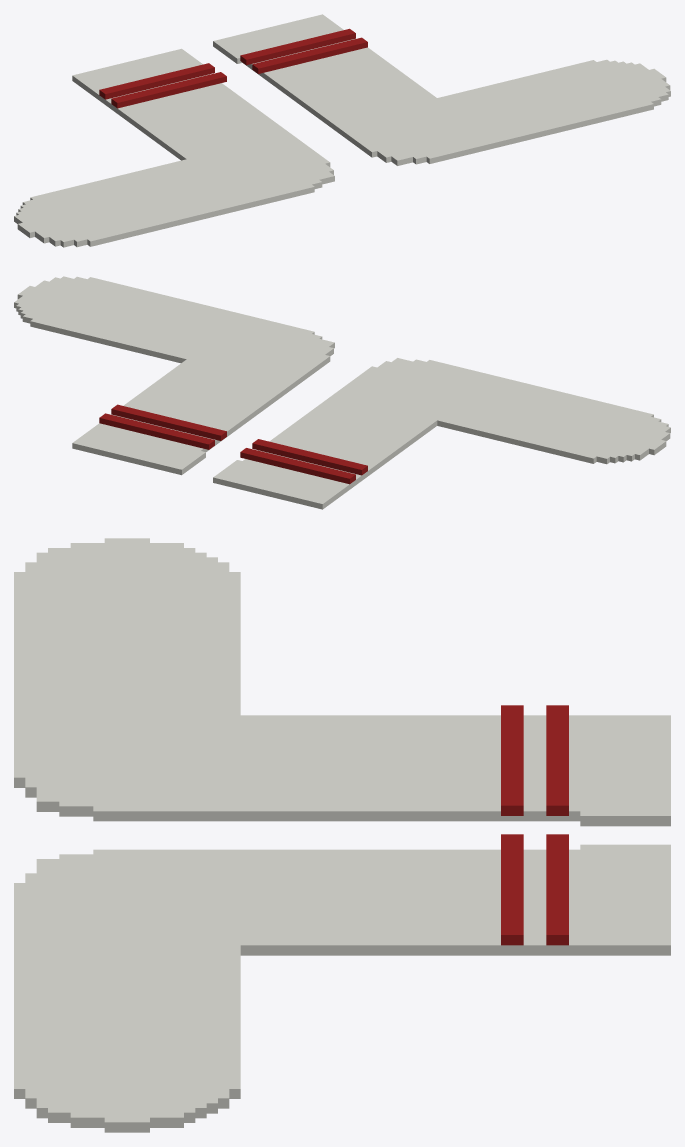
Rendered from socks_bowling.glb.
The picture shows the model from 3 angles, top to bottom: view 1: azimuth 30°, elevation 25°; view 2: azimuth 150°, elevation 25°; view 3: azimuth 270°, elevation 25°; orthographic projection. The views are drawn at different scales.
Parts seen in each view (by area): view 1: socks_bowling:compound; view 2: socks_bowling:compound; view 3: socks_bowling:compound.
Part boxes in pixels (box(x1,y1,x2,y2)): socks_bowling:compound: box(14, 14, 670, 247); socks_bowling:compound: box(14, 276, 670, 509); socks_bowling:compound: box(14, 538, 670, 1132).
Bounding box in the file's own units: 0.488 × 0.008 × 0.232.
